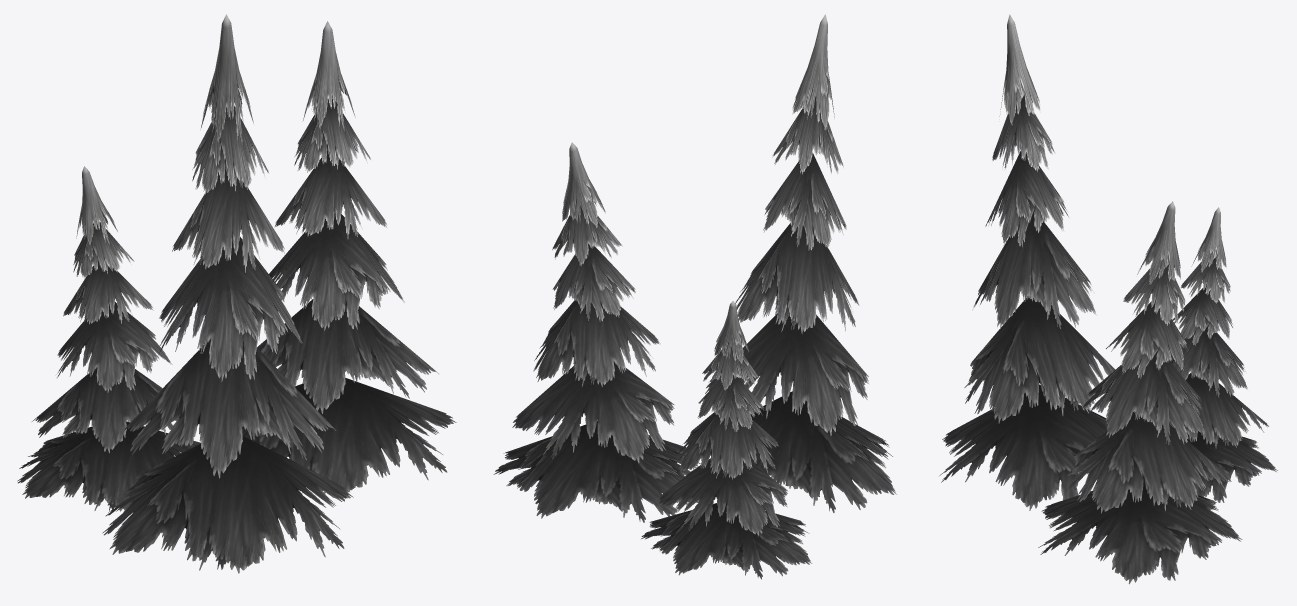
The model's file is Tree02.FBX.
3 renders of one model, left to right at view 1: azimuth 30°, elevation 25°; view 2: azimuth 150°, elevation 25°; view 3: azimuth 270°, elevation 25°, orthographic. The views are drawn at different scales.
Visible parts, largest first — view 1: Tree002, Tree01, Tree003; view 2: Tree002, Tree01, Tree003; view 3: Tree002, Tree01, Tree003.
Part boxes in pixels (box(x1,y1,x2,y2)): Tree002: box(102, 14, 353, 573); Tree01: box(242, 21, 456, 493); Tree003: box(17, 166, 200, 511); Tree002: box(705, 14, 896, 512); Tree01: box(493, 142, 700, 522); Tree003: box(641, 301, 812, 579); Tree002: box(939, 14, 1115, 510); Tree01: box(1038, 201, 1242, 584); Tree003: box(1169, 207, 1277, 502).
Bounding box in the file's own units: 2.98 × 3.67 × 2.57.
3 materials, 3 textured.
